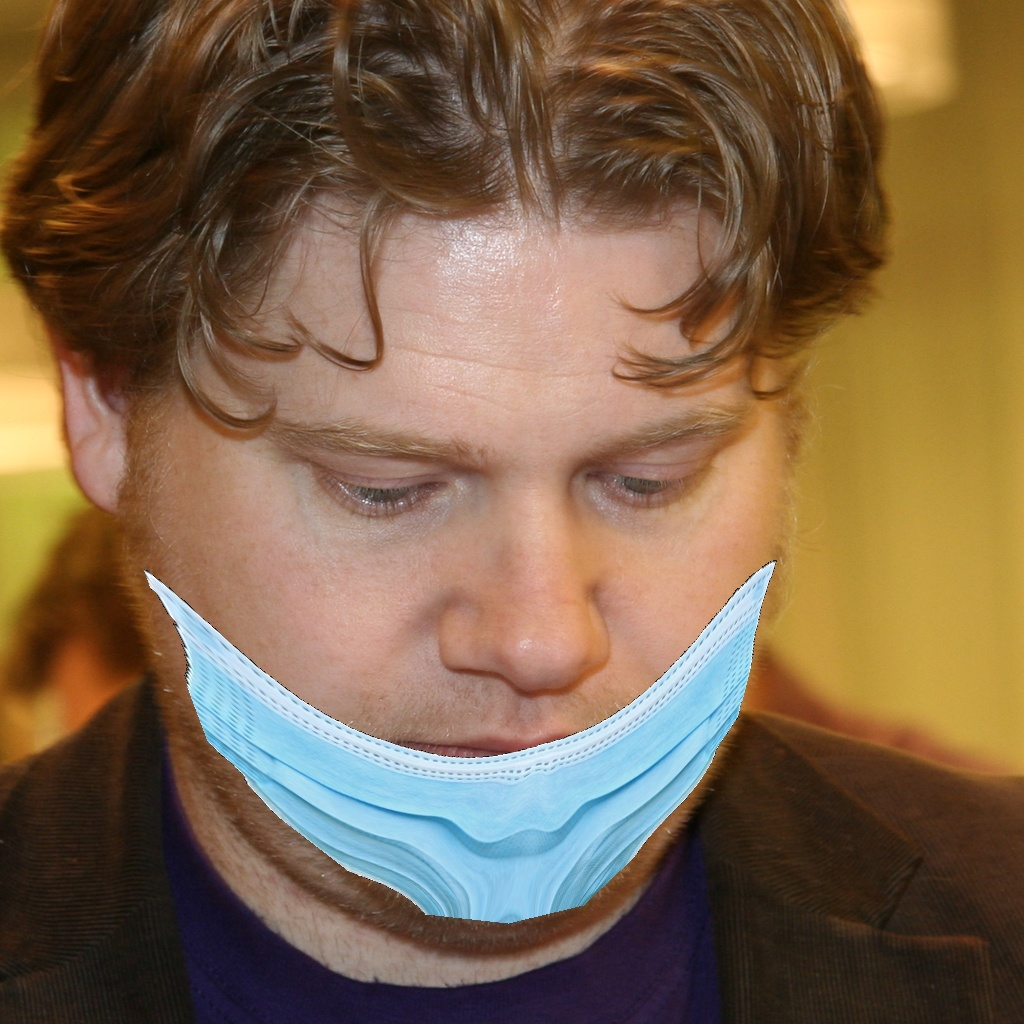mascarilla_mal_puesta: (69, 230, 814, 945)
